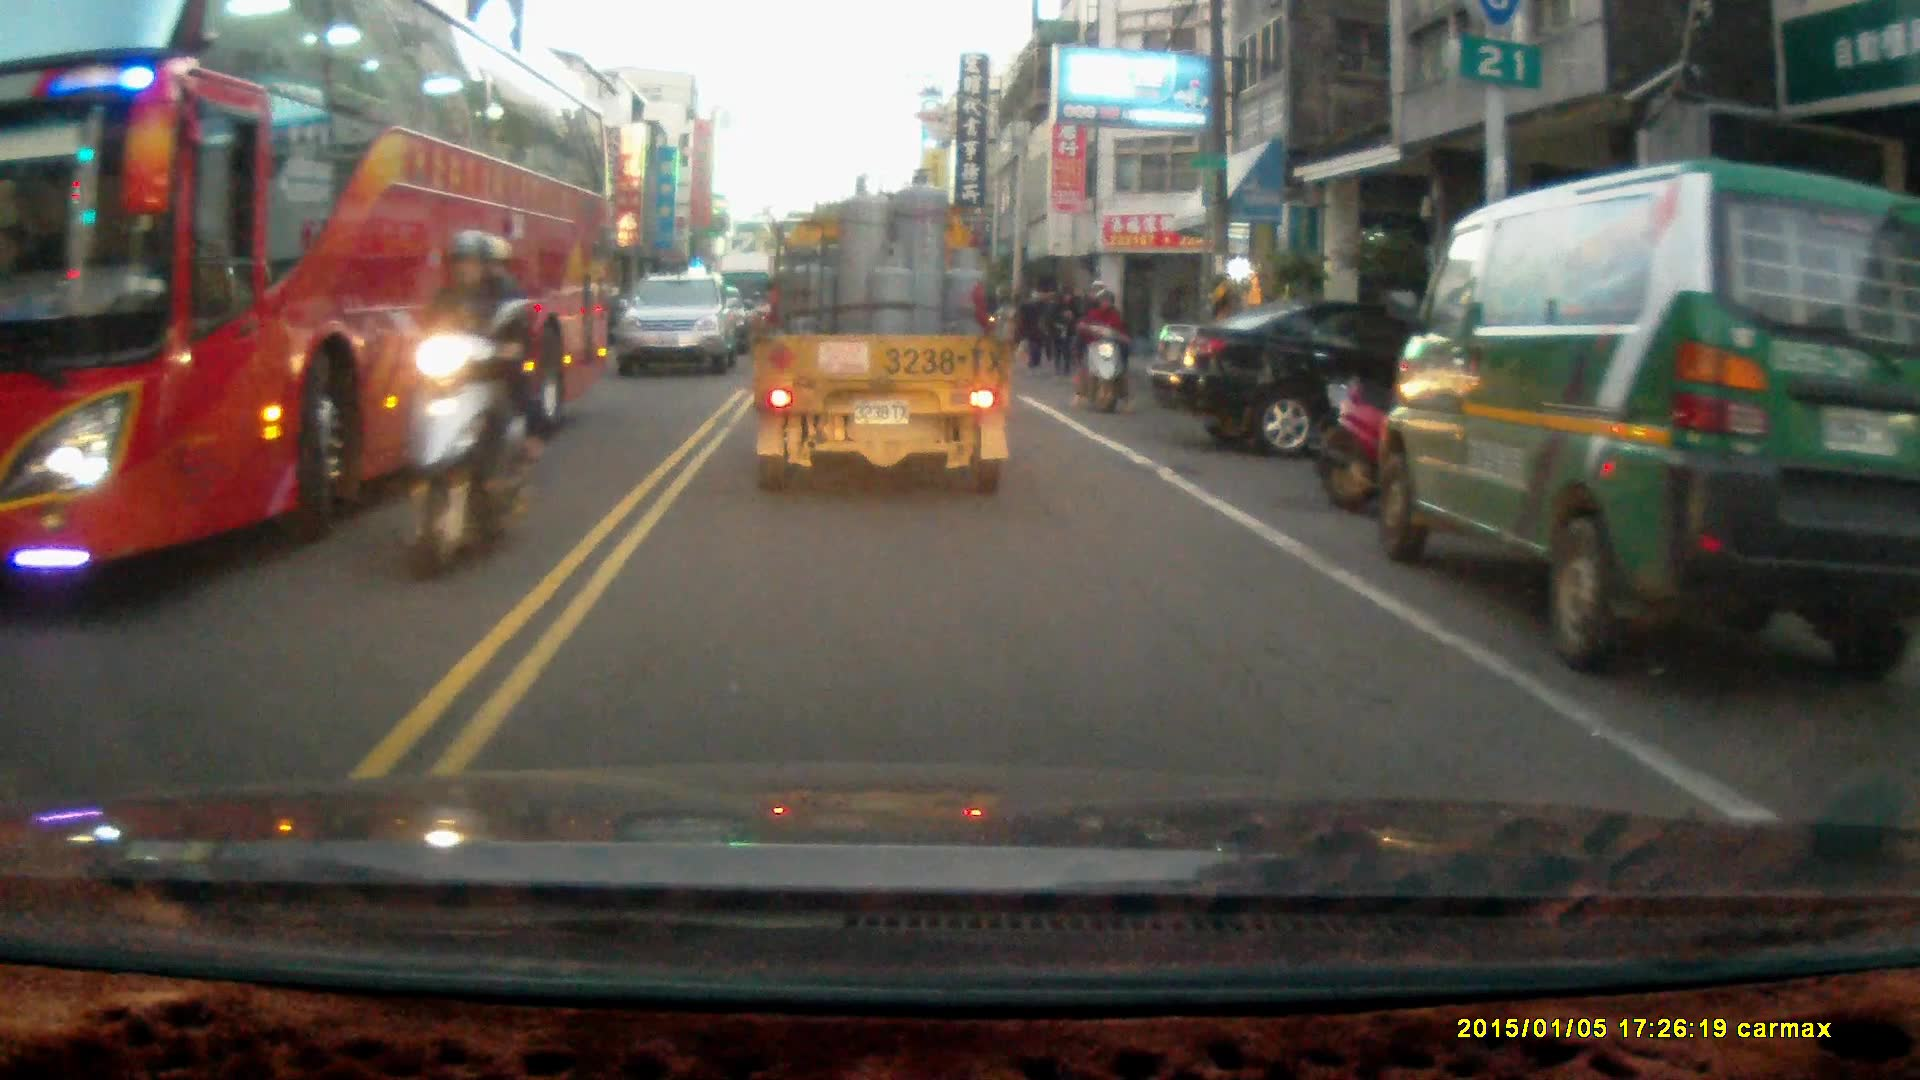pedestrian: (1019, 288, 1052, 367), (1049, 288, 1076, 380)
rider: (378, 227, 550, 582), (1076, 279, 1137, 417)
vehicle: (1, 7, 622, 576), (1385, 158, 1916, 677), (748, 168, 1015, 495), (1164, 296, 1428, 464), (614, 274, 740, 380)
